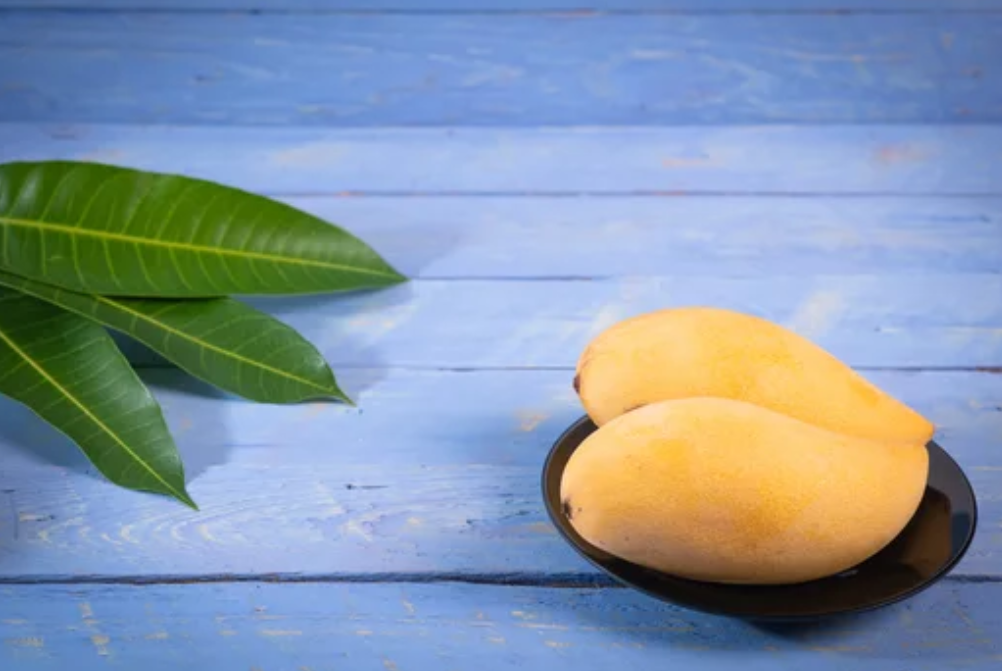mango: (555, 399, 930, 579), (576, 303, 936, 475)
